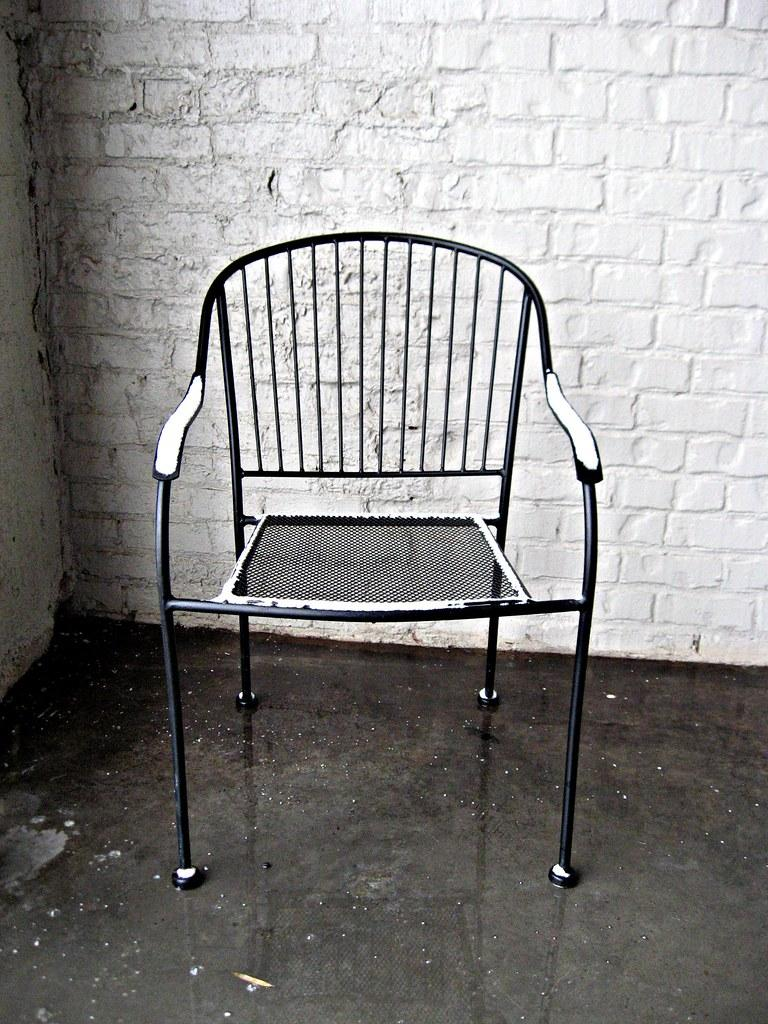chair: (152, 230, 604, 891)
